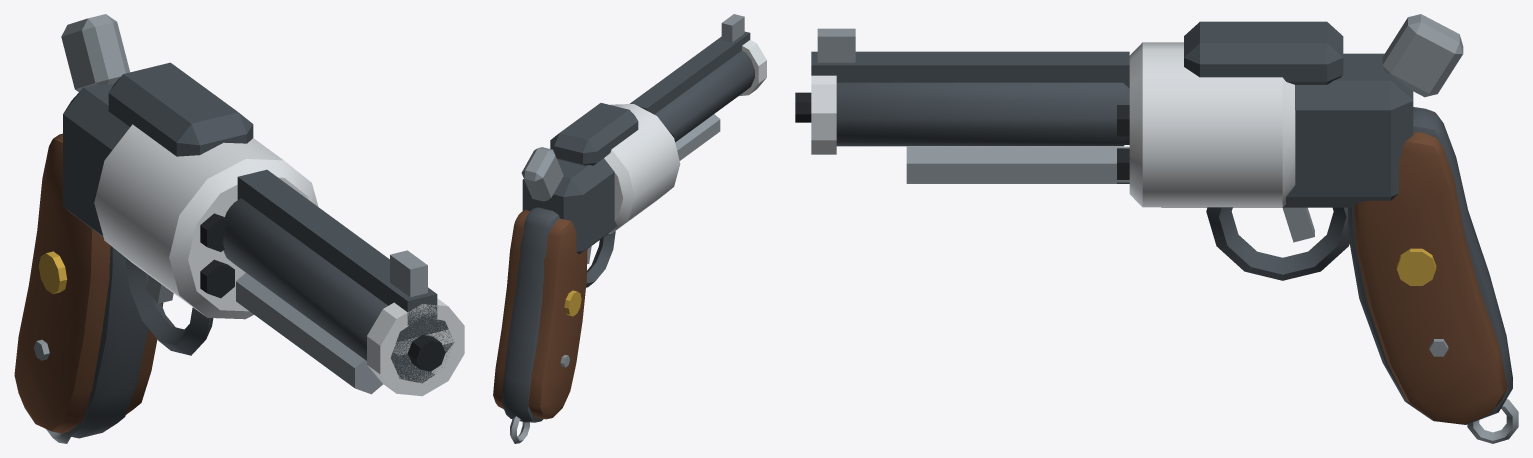
File: Weapon_ServiceRevolver.fbx
3 renders of one model, left to right at view 1: azimuth 30°, elevation 25°; view 2: azimuth 150°, elevation 25°; view 3: azimuth 270°, elevation 25°, orthographic. The views are drawn at different scales.
Parts seen in each view (by area): view 1: Revolver; view 2: Revolver; view 3: Revolver.
Boxes of the visible parts, <box> form: Revolver: <box>14,14,464,443</box>; Revolver: <box>493,14,766,443</box>; Revolver: <box>795,14,1518,443</box>.
Bounding box in the file's own units: 0.52 × 1.48 × 2.27.
